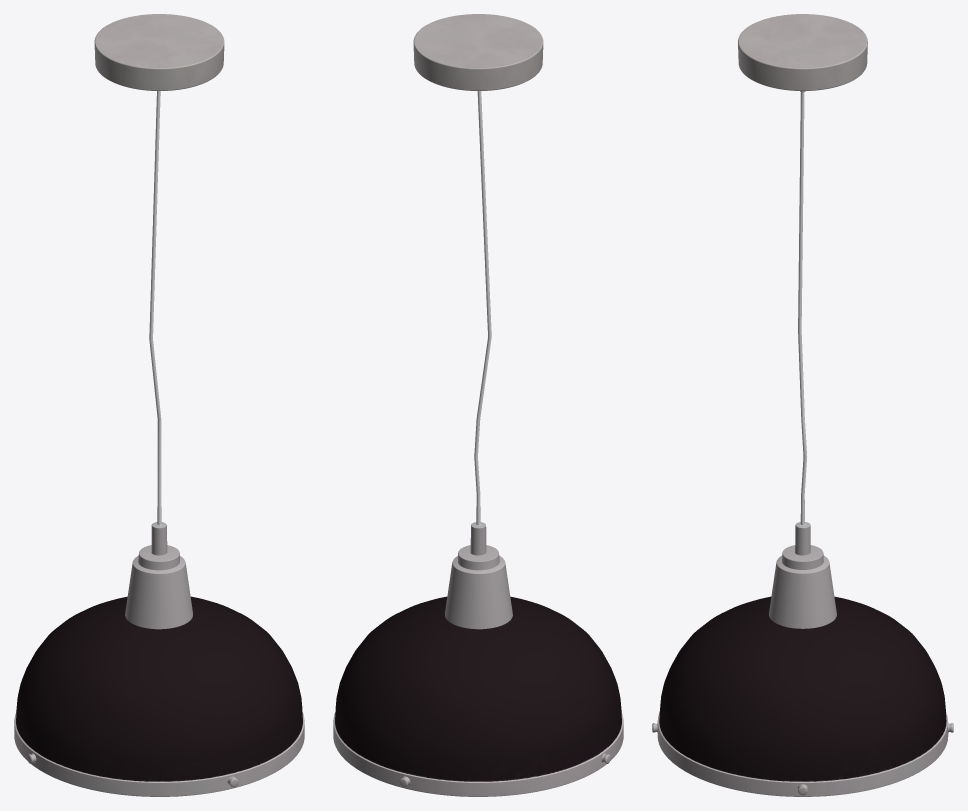
The model's file is abo-B071F6VV2T.glb.
The picture shows the model from 3 angles, left to right: view 1: azimuth 30°, elevation 25°; view 2: azimuth 150°, elevation 25°; view 3: azimuth 270°, elevation 25°; orthographic projection.
Bounding box in the file's own units: 0.569 × 1.45 × 0.569.
1 material, 1 textured.
